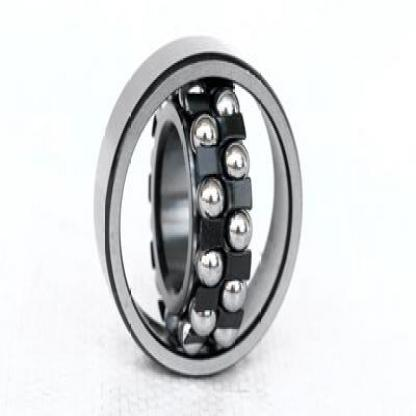FOD: (88, 30, 312, 381)
